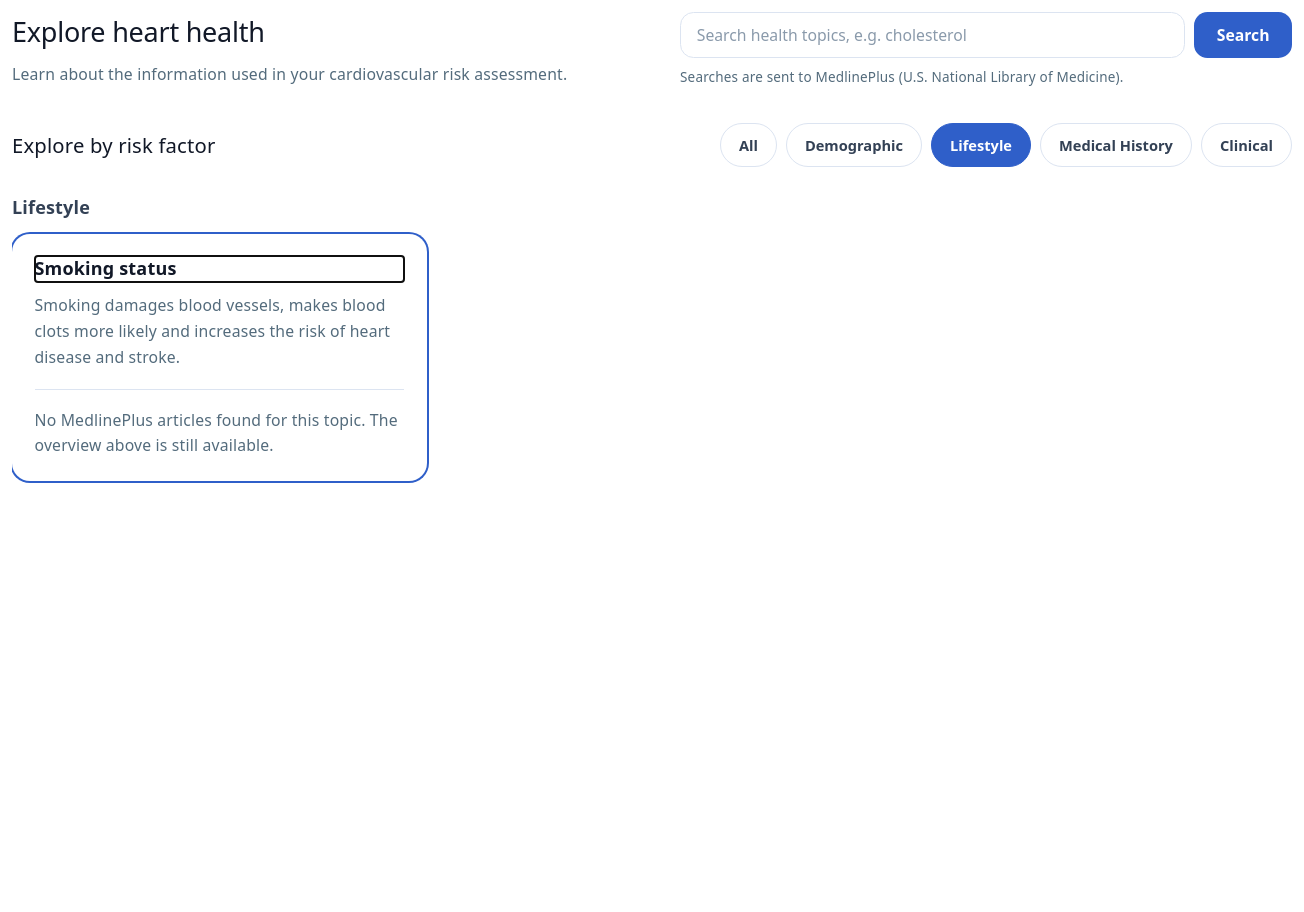
Test: keeps independent search available without revealing other factor cards
In the search field: {"x": 933, "y": 35} [680,12,1185,58], type "quitting smoking"
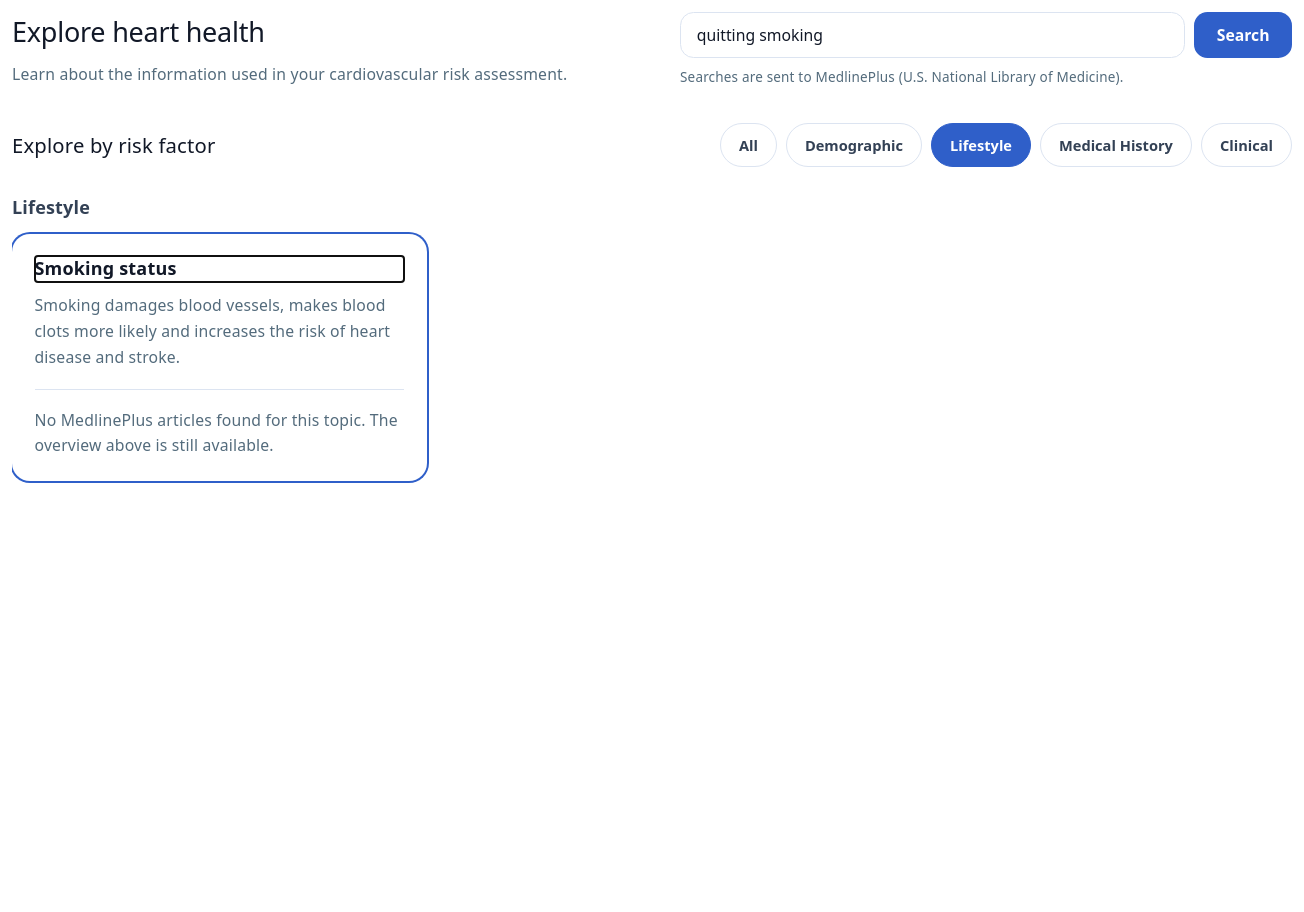
Click the button "Search": {"x": 1243, "y": 35} [1194,12,1292,58]
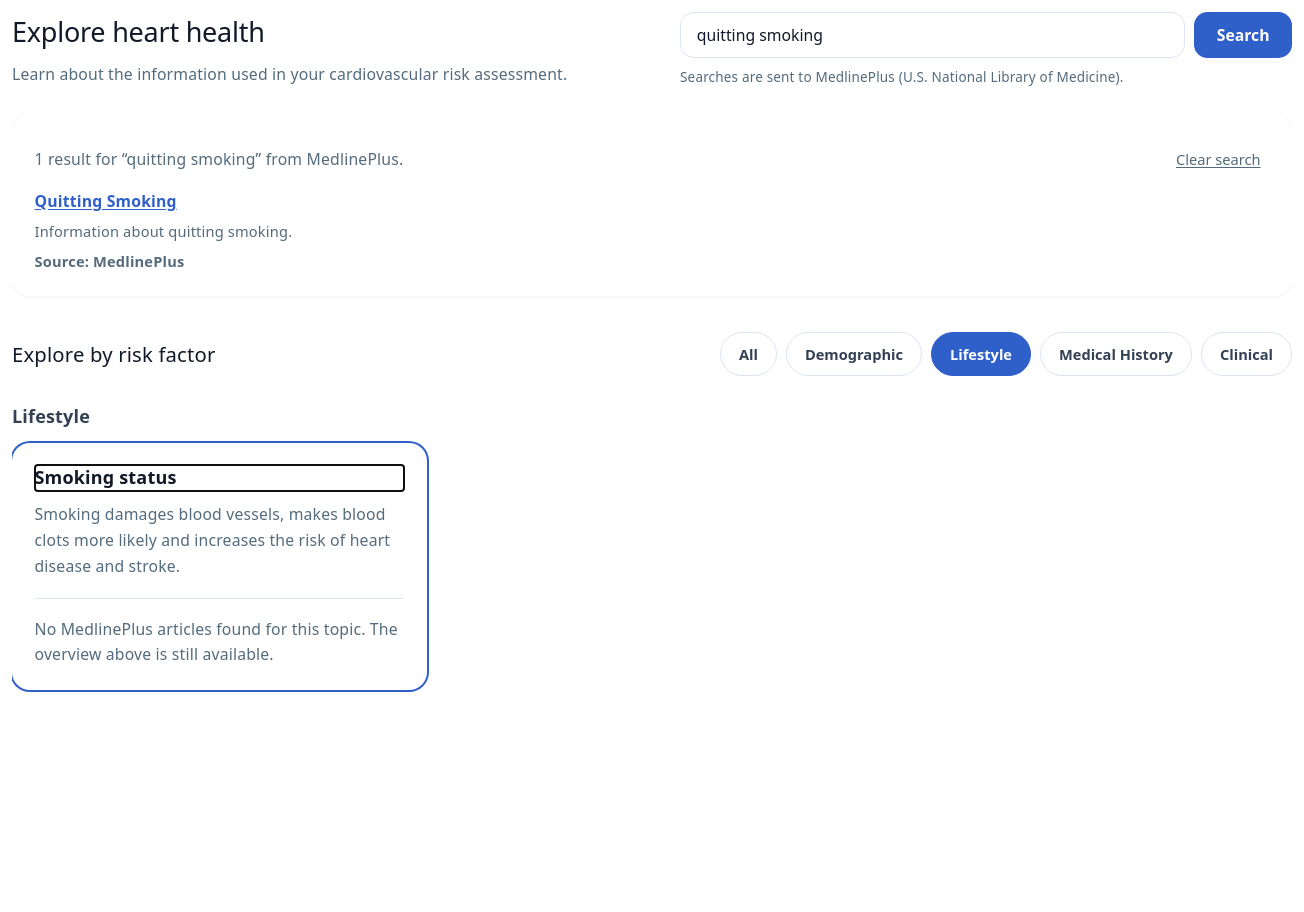
Expected: the element "Smoking status" is shown, [12,443,427,690]
Now the list named "Search results for quitting smoking" is shown, box [34,189,337,271]
